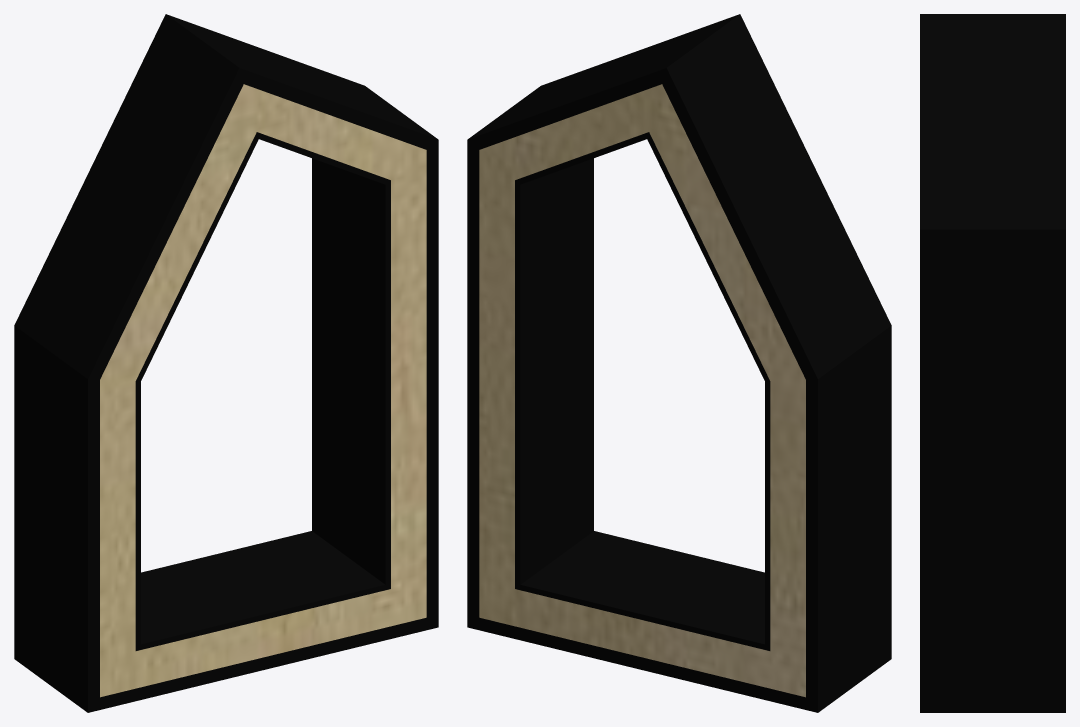
3 views of the same model, side by side, from view 1: azimuth 30°, elevation 25°; view 2: azimuth 150°, elevation 25°; view 3: azimuth 270°, elevation 25° (orthographic).
Visible parts, largest first — view 1: G-2; view 2: G-2; view 3: G-2.
Boxes of the visible parts, <box> form: G-2: <box>14,14,438,712</box>; G-2: <box>467,14,891,712</box>; G-2: <box>920,14,1065,712</box>.
Bounding box in the file's own units: 3.3 × 5.47 × 1.2.
2 materials, 1 textured.
